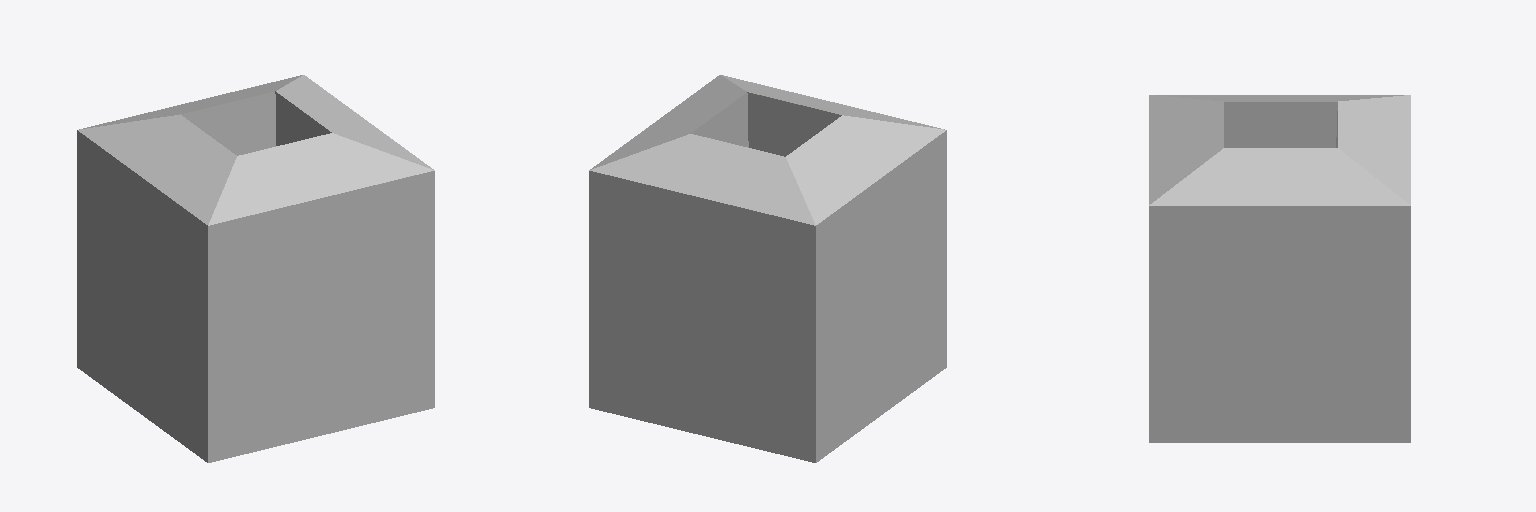
The model's file is Box w hole.obj.
3 renders of one model, left to right at view 1: azimuth 30°, elevation 25°; view 2: azimuth 150°, elevation 25°; view 3: azimuth 270°, elevation 25°, orthographic.
Parts seen in each view (by area): view 1: Cube; view 2: Cube; view 3: Cube.
Boxes of the visible parts, box(x1,y1,x2,y2) form: Cube: box(77, 75, 434, 462); Cube: box(589, 75, 946, 462); Cube: box(1149, 95, 1410, 442).
Bounding box in the file's own units: 2 × 2.22 × 2.